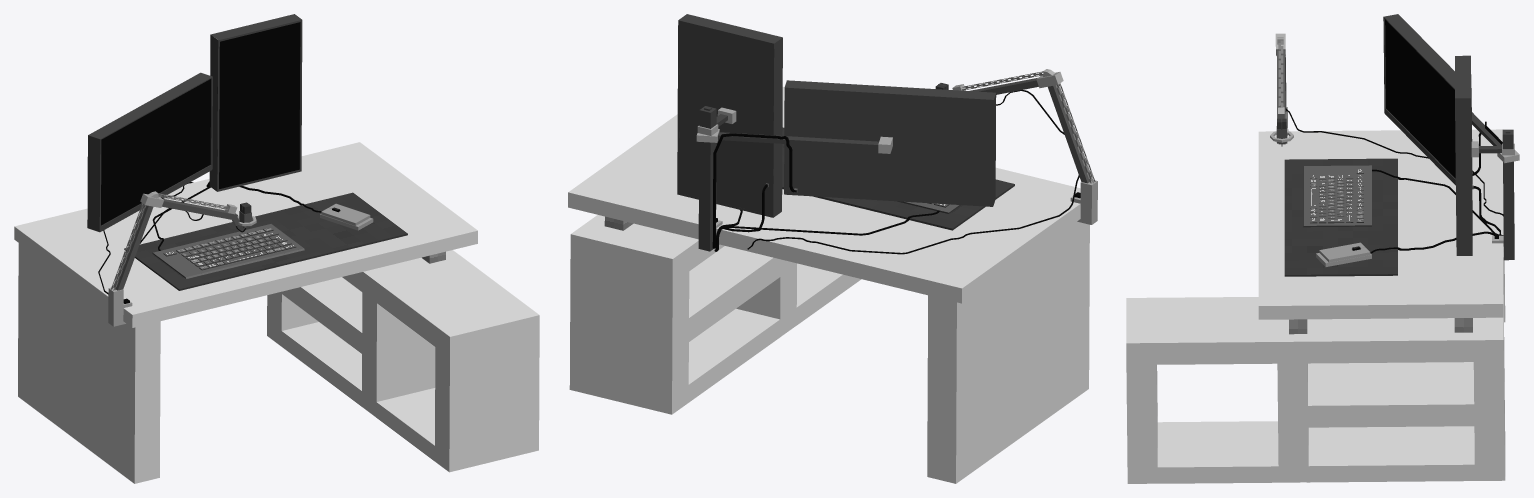
3 renders of one model, left to right at view 1: azimuth 30°, elevation 25°; view 2: azimuth 150°, elevation 25°; view 3: azimuth 270°, elevation 25°, orthographic. The views are drawn at different scales.
Visible parts, largest first — view 1: Object_5, Object_3, Object_7, Object_4, Object_6, Object_2, Object_9; view 2: Object_5, Object_4, Object_2, Object_9, Object_7; view 3: Object_5, Object_7, Object_4, Object_3, Object_6, Object_2, Object_9.
Part boxes in pixels (x1=…): Object_5: x1=14, y1=142, x2=539, y2=483; Object_3: x1=101, y1=22, x2=300, y2=303; Object_7: x1=124, y1=192, x2=407, y2=290; Object_4: x1=87, y1=14, x2=302, y2=232; Object_6: x1=152, y1=203, x2=373, y2=278; Object_2: x1=98, y1=181, x2=339, y2=294; Object_9: x1=108, y1=191, x2=256, y2=326; Object_5: x1=568, y1=87, x2=1089, y2=483; Object_4: x1=677, y1=14, x2=996, y2=251; Object_2: x1=712, y1=78, x2=1091, y2=254; Object_9: x1=696, y1=69, x2=1097, y2=244; Object_7: x1=782, y1=83, x2=1014, y2=230; Object_5: x1=1126, y1=129, x2=1505, y2=483; Object_7: x1=1277, y1=118, x2=1397, y2=276; Object_4: x1=1281, y1=14, x2=1514, y2=260; Object_3: x1=1385, y1=19, x2=1498, y2=238; Object_6: x1=1302, y1=165, x2=1473, y2=266; Object_2: x1=1276, y1=50, x2=1503, y2=253; Object_9: x1=1270, y1=33, x2=1519, y2=260.
Size of the model in its own units: 28.13 by 25.28 by 26.06.
Materials: 8 (7 with a texture image).
